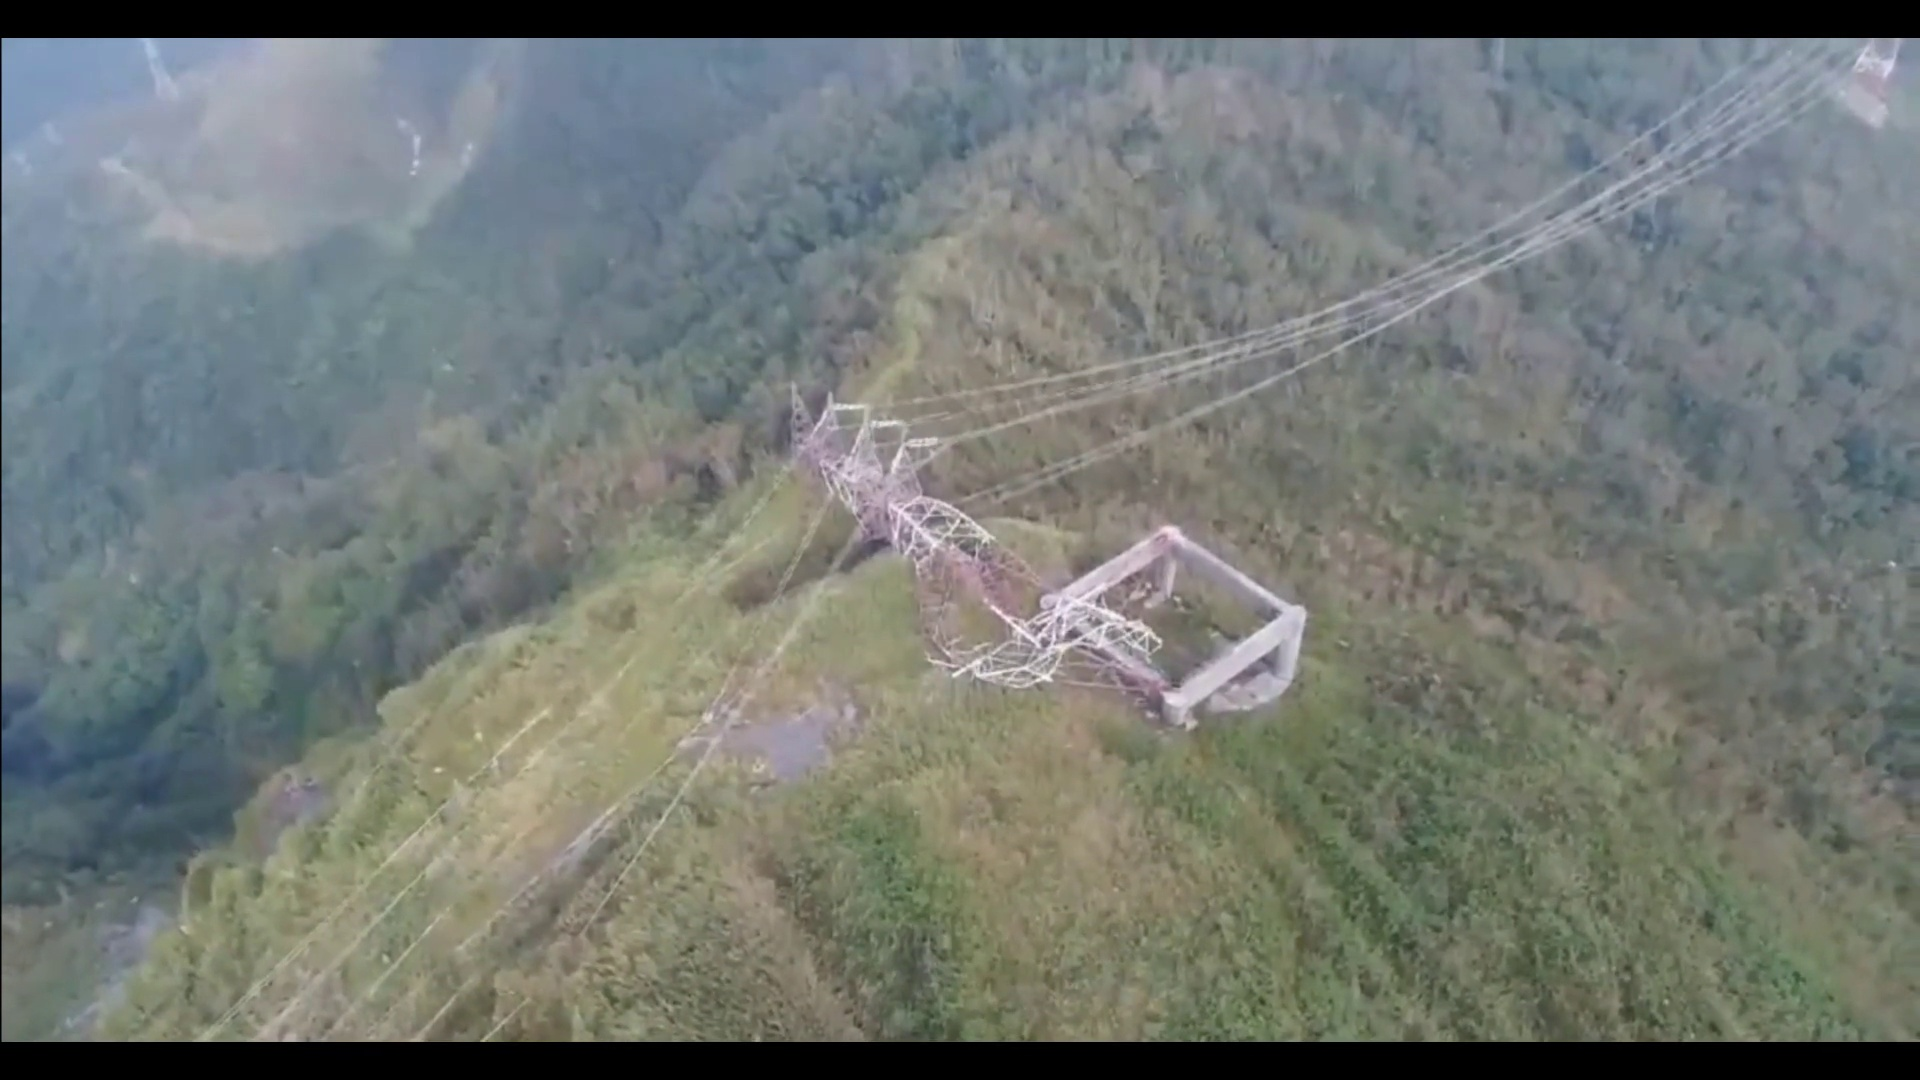tower_down: (781, 394, 1131, 709)
